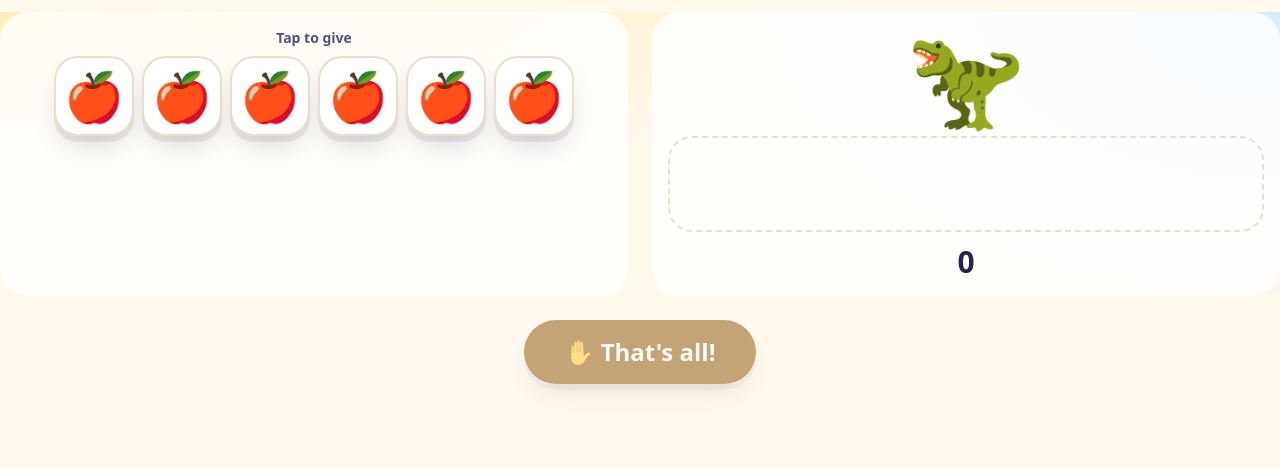
Test: Count and Collect engine › collect mode: stops at the requested number, flags too many, allows taking one back
Later steps or results of the test are not shown.
Click the button named "Give one": (94, 96) [54,56,134,136]
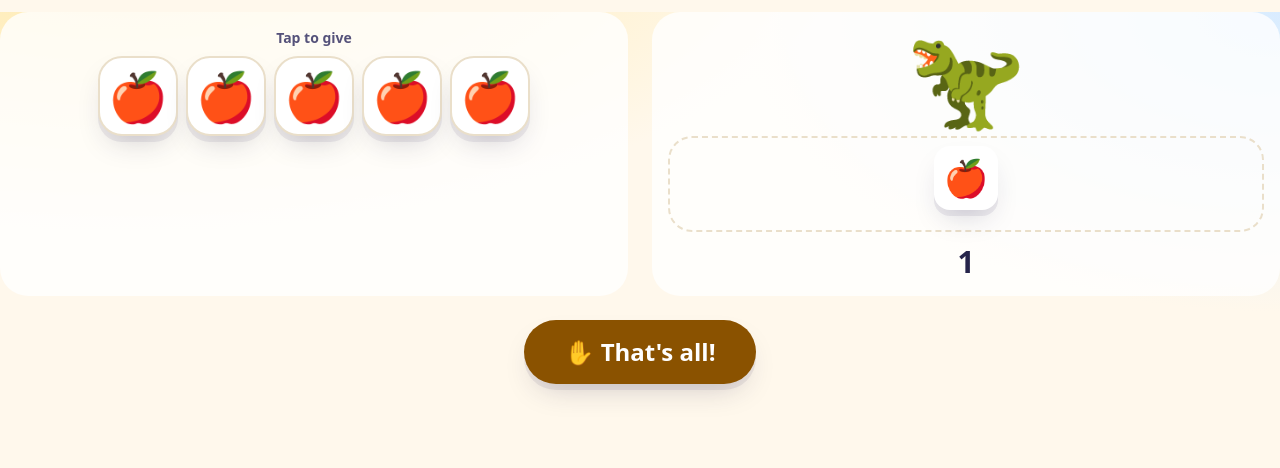
Click the button named "Give one": (138, 96) [98,56,178,136]
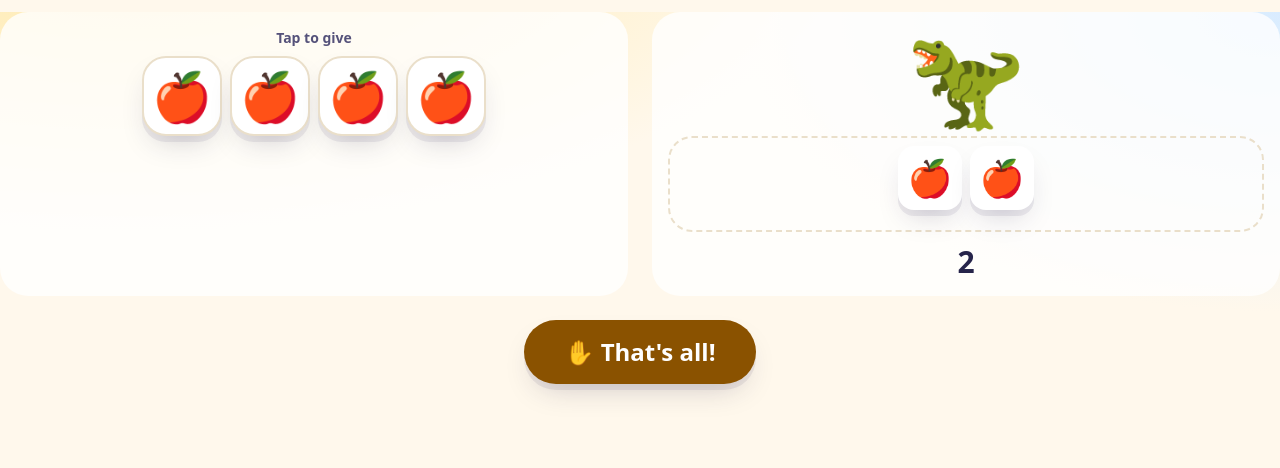
Click the button named "Give one": (182, 96) [142,56,222,136]
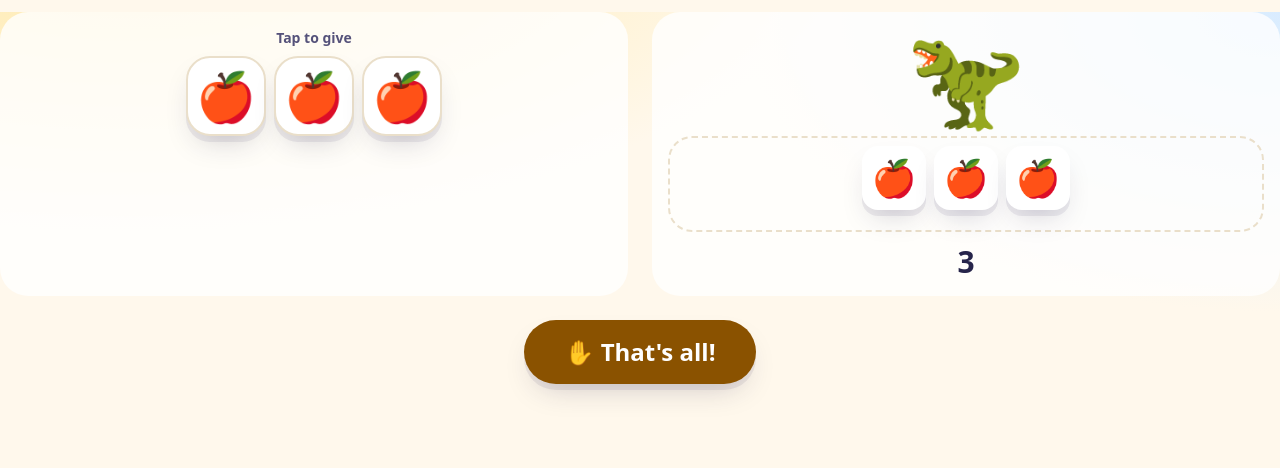
Click the button "✋ That's all!": (640, 352) [524,320,756,384]
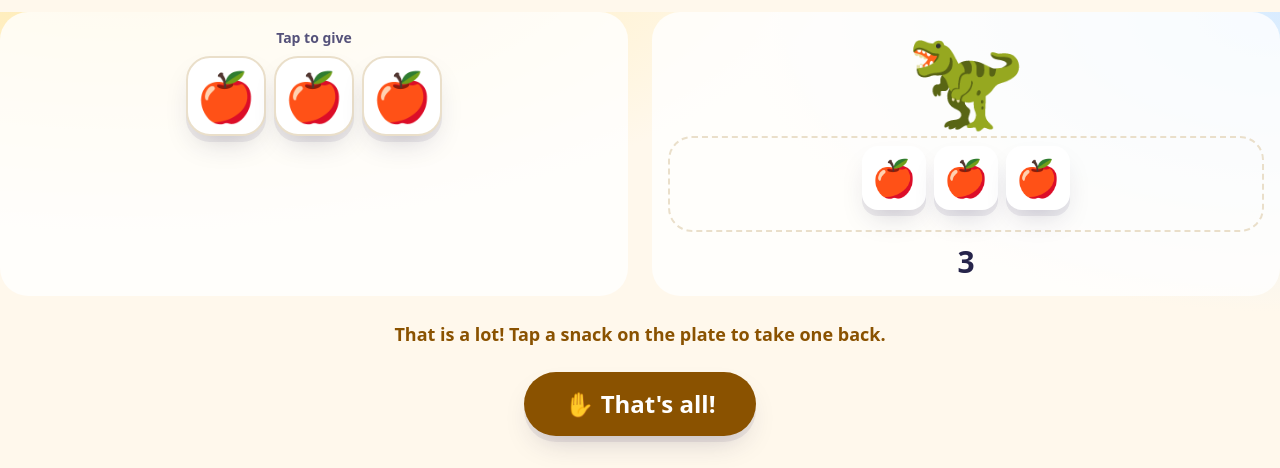
Result: the message shows "take one back" at [394,322,886,346]
